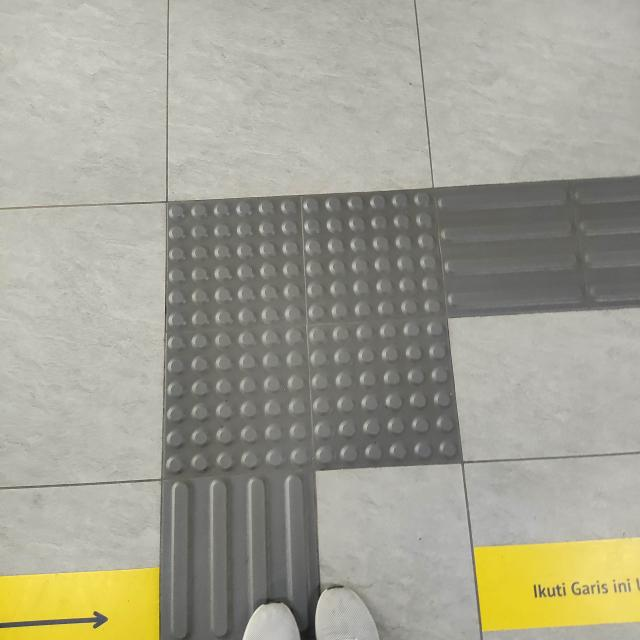kanan: (96, 150, 640, 500)
